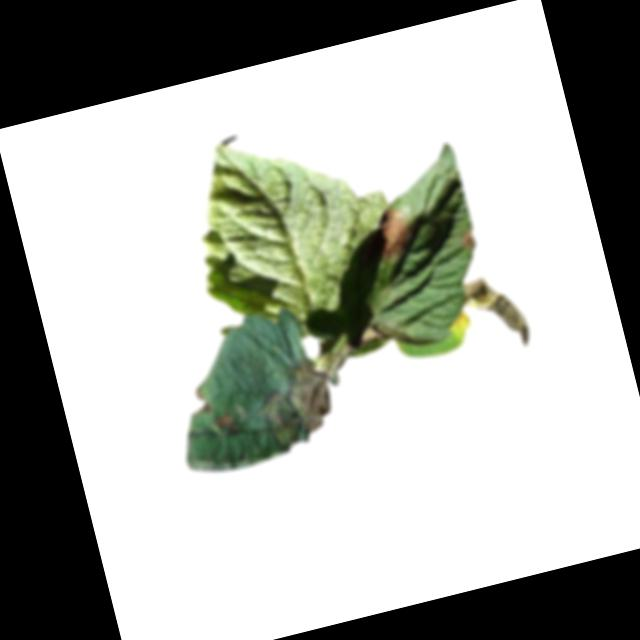Late_blight: (253, 355, 340, 453), (457, 267, 533, 360), (374, 204, 416, 261), (457, 224, 480, 255), (208, 407, 235, 431)
healthy: (171, 108, 414, 360)
